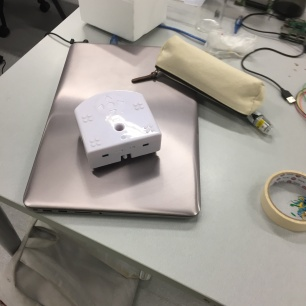thymio: (68, 85, 166, 173)
